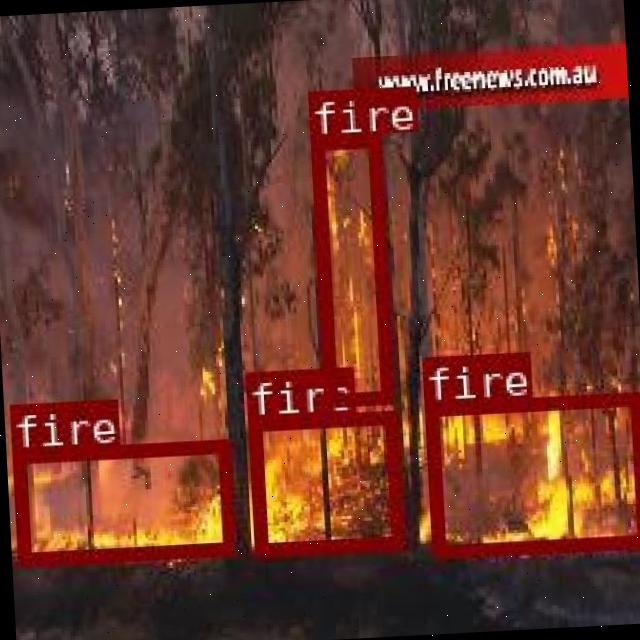fire: (422, 391, 640, 554), (9, 437, 233, 564), (308, 132, 391, 404), (246, 410, 402, 554)
